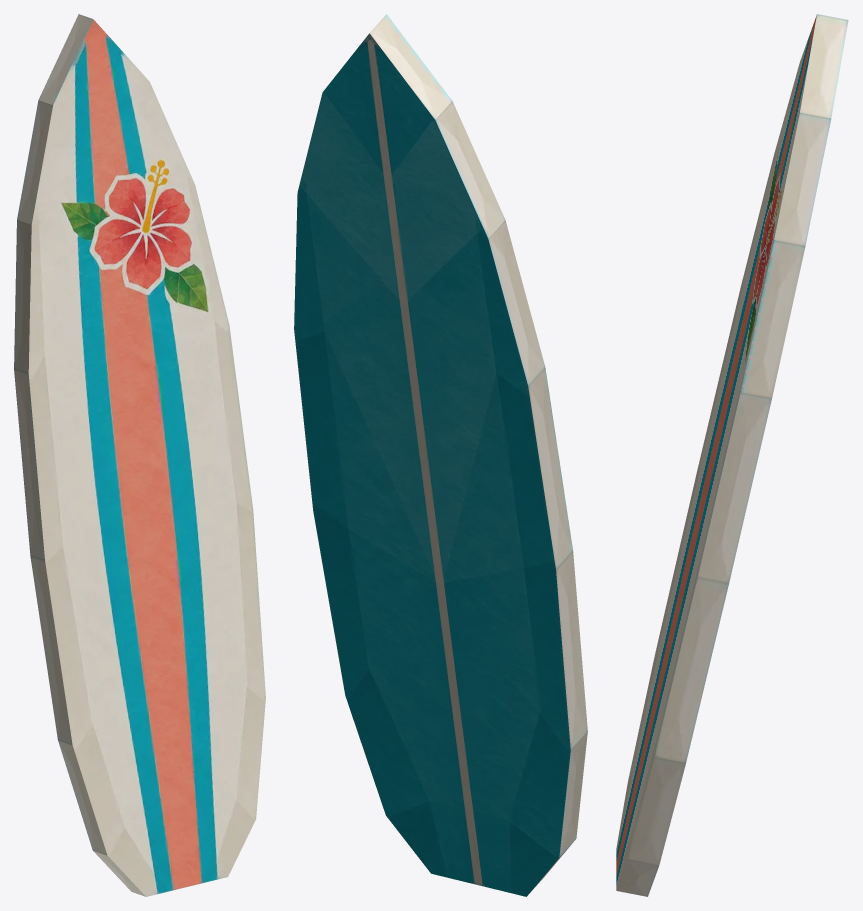
File: surfboard.glb
The picture shows the model from 3 angles, left to right: view 1: azimuth 30°, elevation 25°; view 2: azimuth 150°, elevation 25°; view 3: azimuth 270°, elevation 25°; orthographic projection. The views are drawn at different scales.
Parts seen in each view (by area): view 1: GEO-surfboard; view 2: GEO-surfboard; view 3: GEO-surfboard.
Part boxes in pixels (box(x1,y1,x2,y2)): GEO-surfboard: box(14, 14, 265, 896); GEO-surfboard: box(294, 14, 587, 896); GEO-surfboard: box(616, 14, 848, 896).
Bounding box in the file's own units: 0.56 × 2.07 × 0.5051.
1 material, 1 textured.
